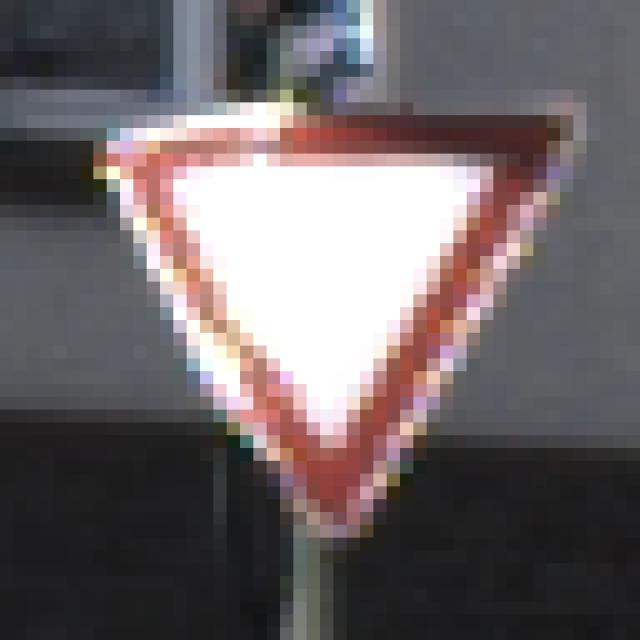Give Way: (68, 78, 574, 577)
